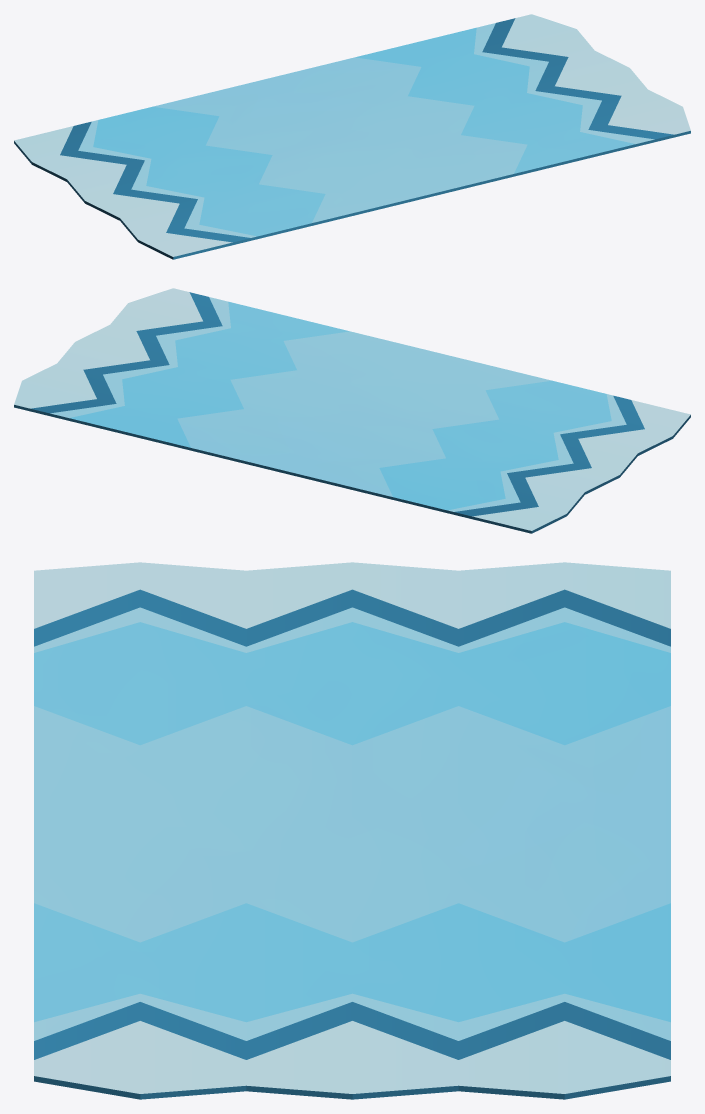
File: Prop_Rug_WhiteStripes.fbx
3 renders of one model, top to bottom at view 1: azimuth 30°, elevation 25°; view 2: azimuth 150°, elevation 25°; view 3: azimuth 270°, elevation 25°, orthographic. The views are drawn at different scales.
Parts seen in each view (by area): view 1: Rug_Bluee; view 2: Rug_Bluee; view 3: Rug_Bluee.
Part boxes in pixels (box(x1,y1,x2,y2)): Rug_Bluee: box(14, 14, 690, 259); Rug_Bluee: box(14, 288, 690, 533); Rug_Bluee: box(34, 562, 670, 1099).
Bounding box in the file's own units: 257 × 1.25 × 130.
